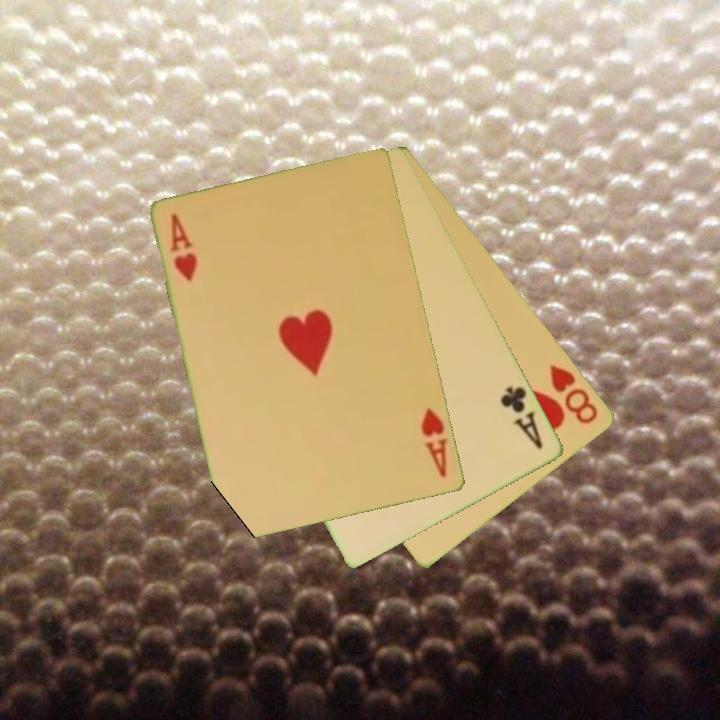8h: (546, 361, 602, 427)
Ac: (497, 383, 547, 452)
Ah: (418, 404, 451, 481), (167, 210, 201, 284)
